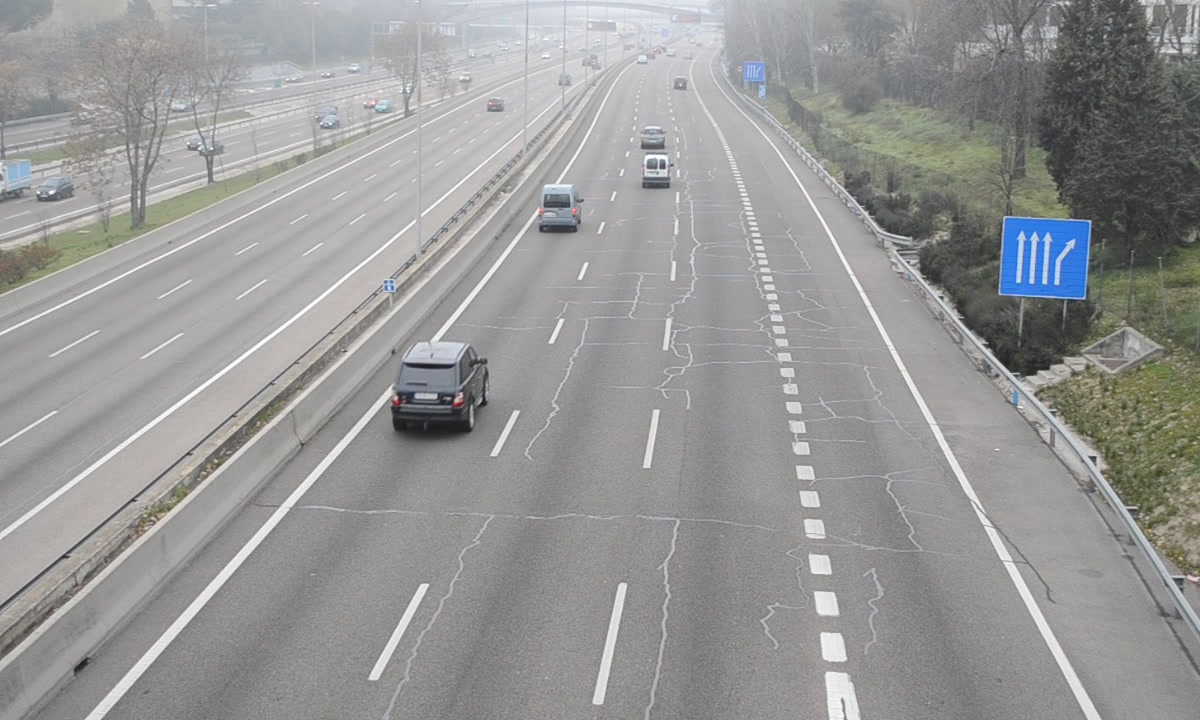car: (388, 341, 492, 423)
van: (540, 183, 581, 226), (641, 152, 672, 187)
